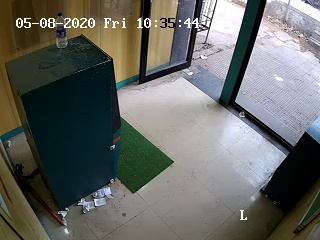open: (138, 2, 273, 114)
